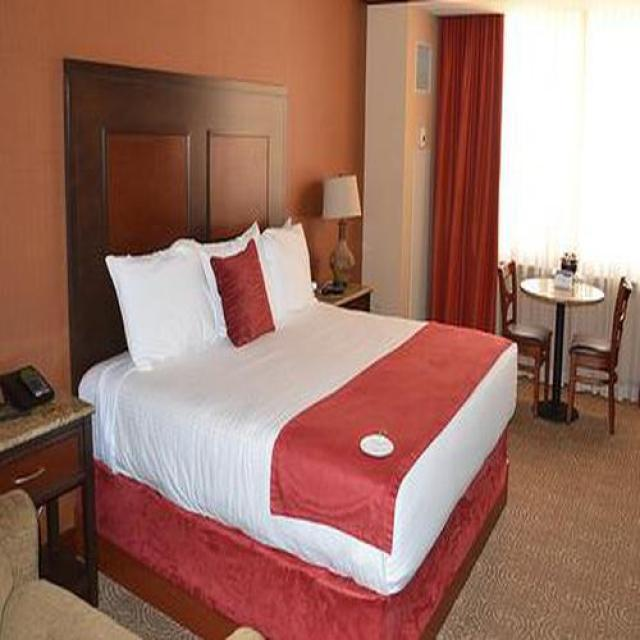bed: (63, 60, 518, 640)
